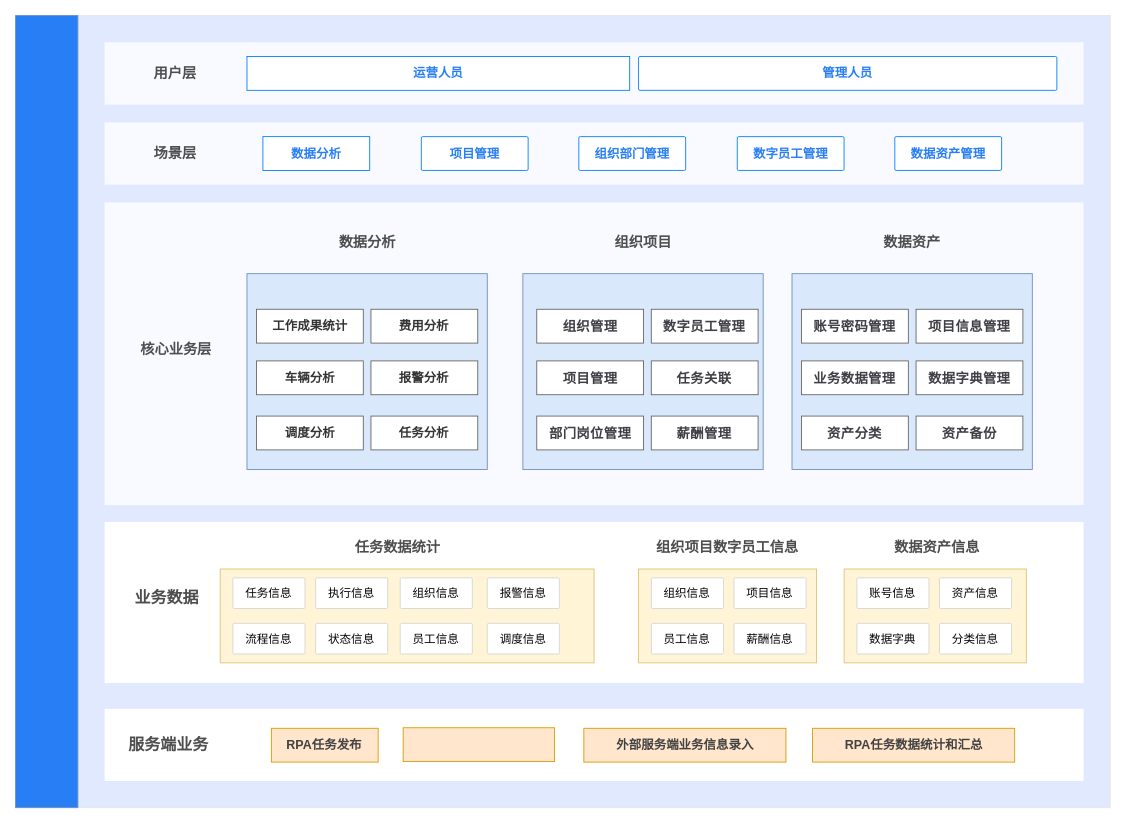
Image size: 1126x823. Some labels were removed from this diagram. The shapes that lost their labels are listed below. From the top down, each one's centre as x and y in pixels, then its label:
At pixel 46 411: "机 器 人 用 工 平 台".
At pixel 478 744: "组织员工信息录入".
